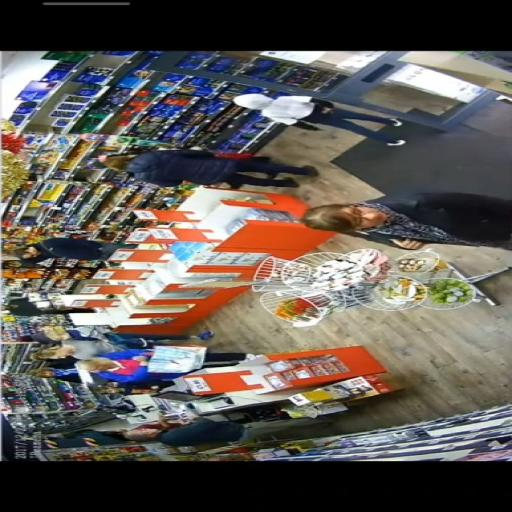workers: (36, 324, 213, 360), (74, 352, 262, 385), (118, 411, 248, 450), (17, 234, 118, 264)
